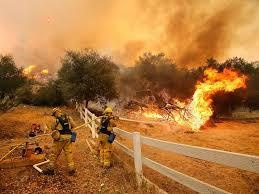fire: (140, 63, 243, 130), (21, 61, 52, 76)
